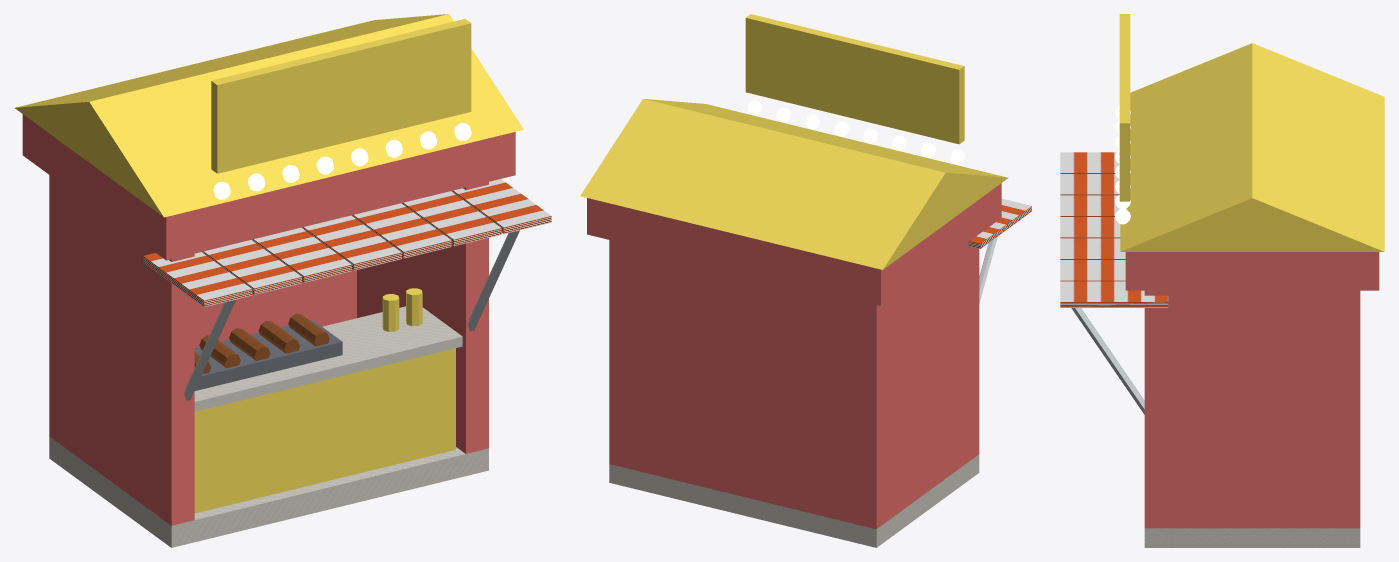
Rendered from theme-park-rides-and-coasters-theme-park-rides-and-coa-dafc8c2d__28681.glb.
3 views of the same model, side by side, from view 1: azimuth 30°, elevation 25°; view 2: azimuth 150°, elevation 25°; view 3: azimuth 270°, elevation 25° (orthographic). The views are drawn at different scales.
Visible parts, largest first — view 1: theme-park-rides-and-coasters-hot-dog-stand; view 2: theme-park-rides-and-coasters-hot-dog-stand; view 3: theme-park-rides-and-coasters-hot-dog-stand.
Part boxes in pixels (x1,y1,x2,y2): theme-park-rides-and-coasters-hot-dog-stand: (15,14,551,547); theme-park-rides-and-coasters-hot-dog-stand: (580,14,1031,547); theme-park-rides-and-coasters-hot-dog-stand: (1060,14,1384,547).
Bounding box in the file's own units: 3.4 × 4.2 × 3.
Materials: 8 (3 with a texture image).
